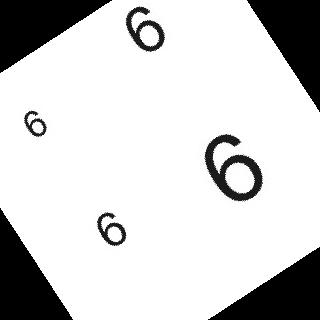six: (195, 131, 267, 203), (121, 4, 172, 55), (93, 210, 130, 247), (21, 109, 51, 139)
